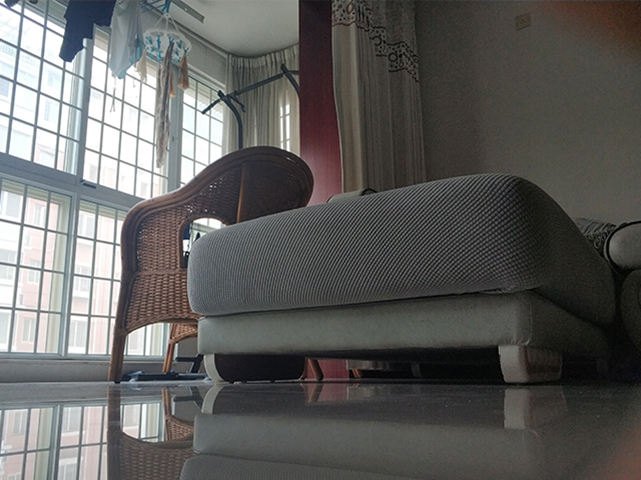sofa: (184, 172, 640, 385)
stool: (105, 143, 317, 385)
